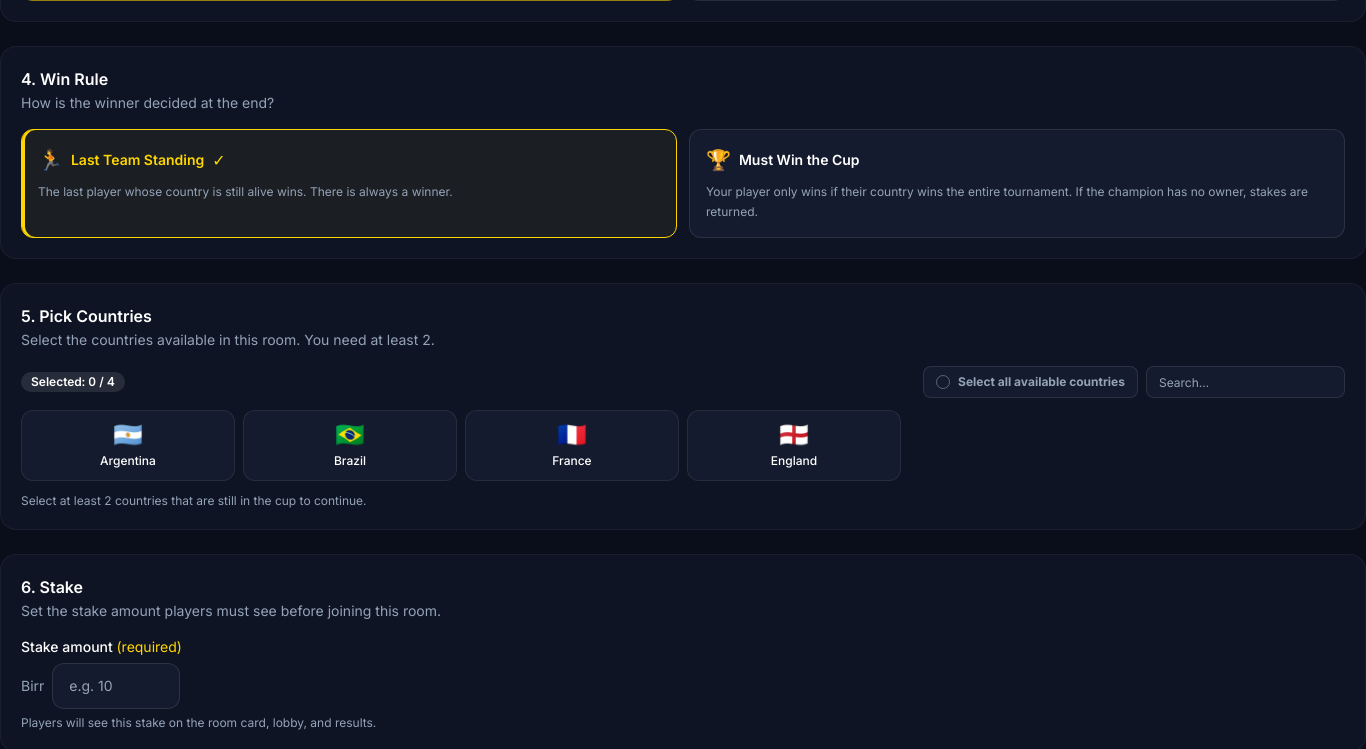
Scenario: CreateRoomForm › select all ignores knocked-out countries
(page scrolled)
Click the checkbox with test id "select-all-countries" at coordinates (1031, 382), box [923,366,1138,398]
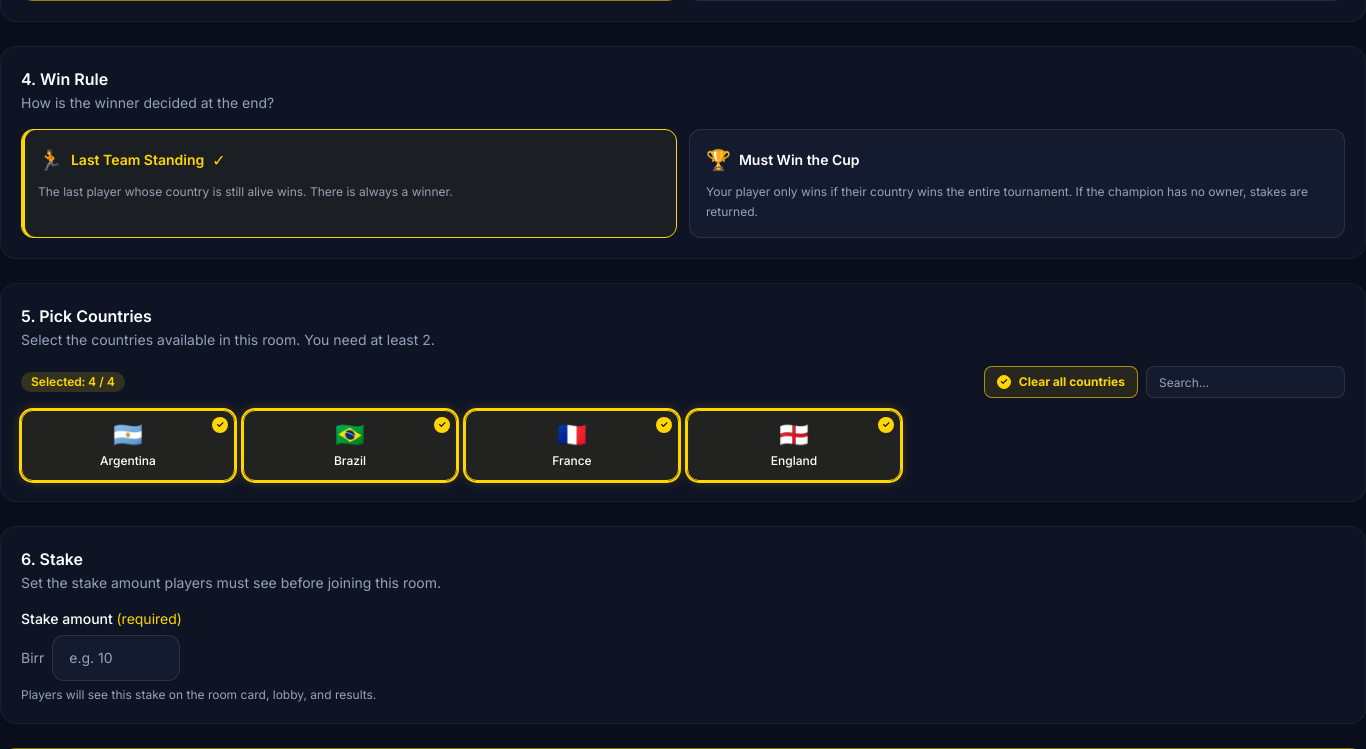
Check: the text "Selected: 4 / 4" is shown, box [21,372,125,392]
